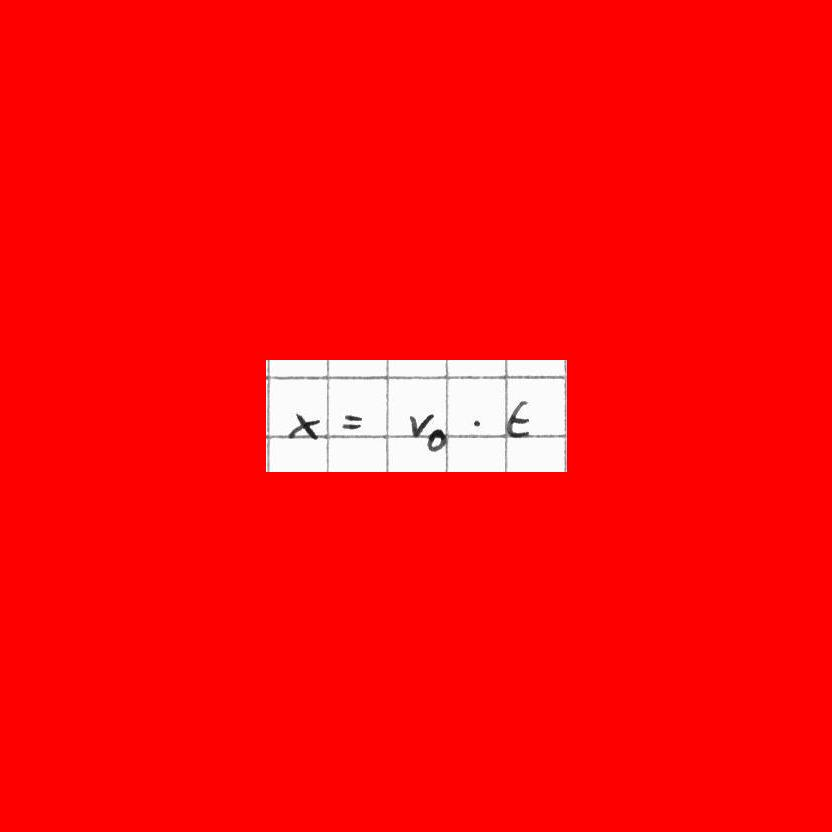Char: (497, 395, 532, 439), (283, 408, 323, 443), (405, 409, 433, 438), (340, 408, 367, 433), (424, 426, 448, 451), (466, 414, 486, 430)
